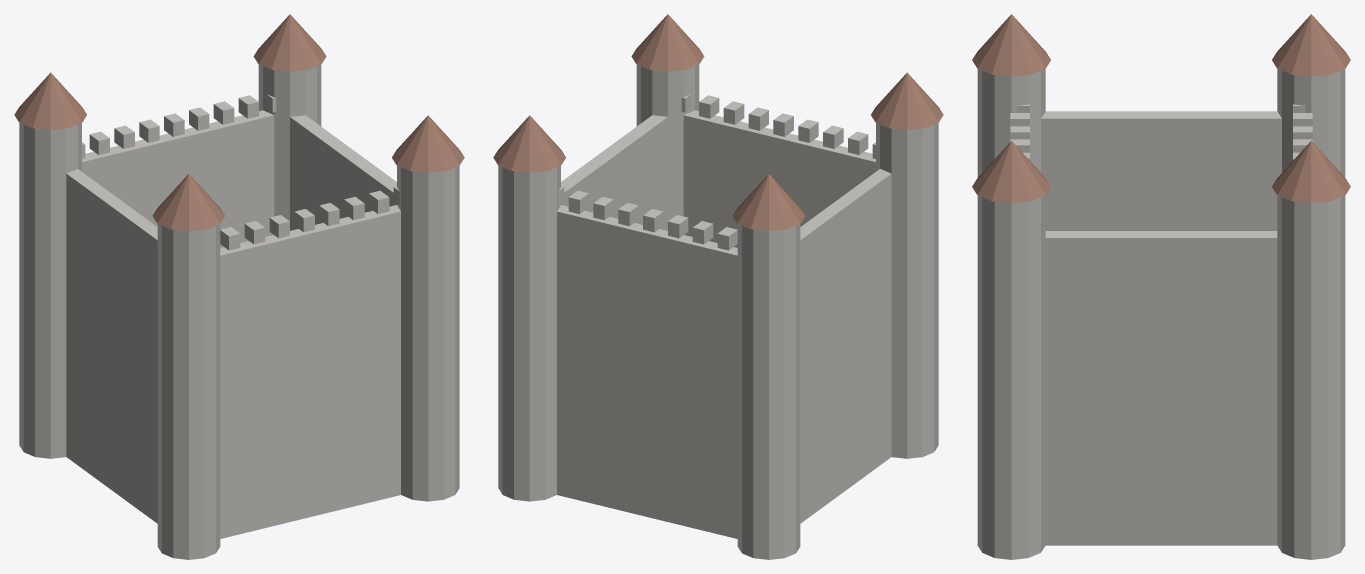
Rendered from castle_visual.glb.
The picture shows the model from 3 angles, left to right: view 1: azimuth 30°, elevation 25°; view 2: azimuth 150°, elevation 25°; view 3: azimuth 270°, elevation 25°; orthographic projection. The views are drawn at different scales.
Parts seen in each view (by area): view 1: Castle_Visual; view 2: Castle_Visual; view 3: Castle_Visual.
Part boxes in pixels (x1,y1,x2,y2): Castle_Visual: [14, 14, 464, 559]; Castle_Visual: [493, 14, 943, 559]; Castle_Visual: [972, 14, 1350, 559].
Size of the model in its own units: 13.4 by 15.8 by 13.4.
